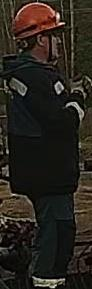gloves: (70, 73, 92, 102)
helmet: (11, 1, 65, 40)
vest: (0, 55, 80, 196)
